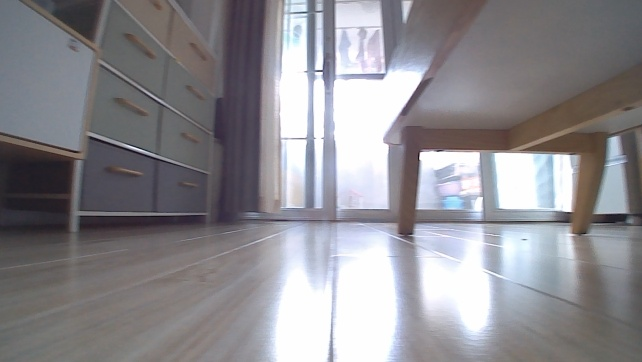cabinet: (0, 0, 222, 230)
